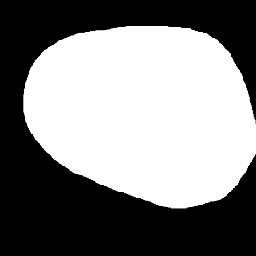mass: (28, 19, 239, 212)
